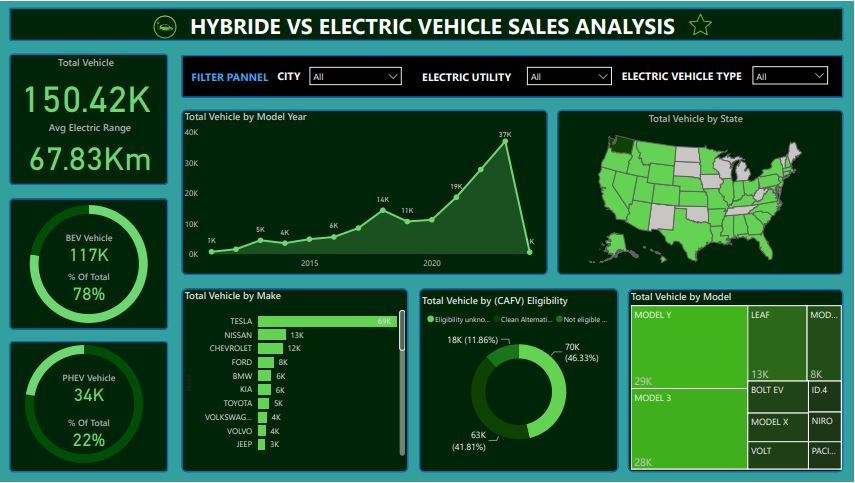

What the dashboard file says about the page in this screenshot:
{"tool":"powerbi","page":{"name":"Page 1","canvas":[1280,720],"ordinal":0},"visuals":[{"type":"shape","box":[14.3,10,1250,50],"z":0},{"type":"textbox","box":[272.1,9.9,752.6,55.3],"z":1000},{"type":"image","box":[212.6,15.6,69.4,45.4],"z":2000},{"type":"shape","box":[14.2,79.4,238.1,197],"z":3000},{"type":"card","title":"Total Vehicle","fields":{"Values":["Electric_Vehicle_Population_Data.Total Vehicle"]},"box":[24.1,80.8,209.8,97.8],"z":4000},{"type":"card","title":"Avg Electric Range","fields":{"Values":["Electric_Vehicle_Population_Data.Avg Range"]},"box":[18.4,178.6,233.9,85],"z":5000},{"type":"shape","box":[14.2,296.2,238.1,197],"z":6000},{"type":"shape","box":[14.2,510.2,238.1,197],"z":7000},{"type":"donutChart","fields":{"Category":["Electric_Vehicle_Population_Data.Electric Vehicle Type"],"Y":["Electric_Vehicle_Population_Data.Total Vehicle"]},"box":[7.1,279.2,252.3,231],"z":8000},{"type":"card","title":"BEV Vehicle","fields":{"Values":["Electric_Vehicle_Population_Data.BEV Vehicle"]},"box":[78,345.8,110.6,49.6],"z":9000},{"type":"card","title":"% Of Total","fields":{"Values":["Electric_Vehicle_Population_Data.% of BEV"]},"box":[78,405.4,110.6,49.6],"z":10000},{"type":"donutChart","fields":{"Category":["Electric_Vehicle_Population_Data.Electric Vehicle Type"],"Y":["Electric_Vehicle_Population_Data.Total Vehicle"]},"box":[0,489,252.3,231],"z":11000},{"type":"card","title":"PHEV Vehicle","fields":{"Values":["Electric_Vehicle_Population_Data.PHEV Vehicle"]},"box":[78,555.6,110.6,49.6],"z":12000},{"type":"card","title":"% Of Total","fields":{"Values":["Electric_Vehicle_Population_Data.% of PHEV"]},"box":[78,623.6,110.6,49.6],"z":13000},{"type":"shape","box":[272.1,80.8,992.1,63.8],"z":14000},{"type":"shape","box":[272.1,163,548.5,248],"z":15000},{"type":"areaChart","fields":{"Category":["Electric_Vehicle_Population_Data.Model Year"],"Y":["Electric_Vehicle_Population_Data.Total Vehicle"]},"box":[272.1,163,540,248],"z":16000},{"type":"shape","box":[834.8,163,429.4,248],"z":17000},{"type":"shapeMap","fields":{"Category":["Electric_Vehicle_Population_Data.State"],"Value":["Electric_Vehicle_Population_Data.Total Vehicle"]},"box":[834.8,165.8,416.7,242.4],"z":18000},{"type":"shape","box":[272.1,430.9,340.2,276.4],"z":19000},{"type":"barChart","fields":{"Category":["Electric_Vehicle_Population_Data.Make"],"Y":["Electric_Vehicle_Population_Data.Total Vehicle"]},"box":[272.1,430.9,340.2,256.5],"z":20000},{"type":"shape","box":[627.9,430.9,299.1,276.4],"z":21000},{"type":"donutChart","title":"Total Vehicle by (CAFV) Eligibility","fields":{"Category":["Electric_Vehicle_Population_Data.Clean Alternative Fuel Vehicle (CAFV) Eligibility"],"Y":["Electric_Vehicle_Population_Data.Total Vehicle"]},"box":[627.9,439.4,299.1,248],"z":22000},{"type":"shape","box":[941.1,432.3,323.1,275],"z":23000},{"type":"treemap","fields":{"Group":["Electric_Vehicle_Population_Data.Model"],"Values":["Electric_Vehicle_Population_Data.Total Vehicle"]},"box":[941.1,432.3,324.6,275],"z":24000},{"type":"textbox","box":[282,97.8,138.9,32.6],"z":25000},{"type":"slicer","fields":{"Values":["Electric_Vehicle_Population_Data.City"]},"box":[453.5,89.3,158.7,49.6],"z":26000},{"type":"textbox","box":[411,96.4,53.9,32.6],"z":27000},{"type":"textbox","box":[627.9,97.8,172.9,32.6],"z":28000},{"type":"slicer","fields":{"Values":["Electric_Vehicle_Population_Data.Electric Utility"]},"box":[779.5,89.3,147.4,49.6],"z":29000},{"type":"slicer","fields":{"Values":["Electric_Vehicle_Population_Data.Electric Vehicle Type"]},"box":[1118.3,87.9,133.2,49.6],"z":30000},{"type":"textbox","box":[926.9,96.4,191.3,32.6],"z":31000},{"type":"image","box":[1026.1,14.2,46.8,42.5],"z":32000}]}

Visuals, with their boxes in screenshot pixels (x1, y1, x2, y2), scaled from the page's 1280x720 canvas onto the 855x483 screenshot:
shape: (left=10, top=7, right=845, bottom=40)
textbox: (left=182, top=7, right=684, bottom=44)
image: (left=142, top=10, right=188, bottom=41)
shape: (left=9, top=53, right=169, bottom=185)
"Total Vehicle" card: (left=16, top=54, right=156, bottom=120)
"Avg Electric Range" card: (left=12, top=120, right=169, bottom=177)
shape: (left=9, top=199, right=169, bottom=331)
shape: (left=9, top=342, right=169, bottom=474)
donutChart - Electric_Vehicle_Population_Data.Electric Vehicle Type x Electric_Vehicle_Population_Data.Total Vehicle: (left=5, top=187, right=173, bottom=342)
"BEV Vehicle" card: (left=52, top=232, right=126, bottom=265)
"% Of Total" card: (left=52, top=272, right=126, bottom=305)
donutChart - Electric_Vehicle_Population_Data.Electric Vehicle Type x Electric_Vehicle_Population_Data.Total Vehicle: (left=0, top=328, right=169, bottom=482)
"PHEV Vehicle" card: (left=52, top=373, right=126, bottom=406)
"% Of Total" card: (left=52, top=418, right=126, bottom=452)
shape: (left=182, top=54, right=844, bottom=97)
shape: (left=182, top=109, right=548, bottom=276)
areaChart - Electric_Vehicle_Population_Data.Model Year x Electric_Vehicle_Population_Data.Total Vehicle: (left=182, top=109, right=542, bottom=276)
shape: (left=558, top=109, right=844, bottom=276)
shapeMap - Electric_Vehicle_Population_Data.State x Electric_Vehicle_Population_Data.Total Vehicle: (left=558, top=111, right=836, bottom=274)
shape: (left=182, top=289, right=409, bottom=474)
barChart - Electric_Vehicle_Population_Data.Make x Electric_Vehicle_Population_Data.Total Vehicle: (left=182, top=289, right=409, bottom=461)
shape: (left=419, top=289, right=619, bottom=474)
"Total Vehicle by (CAFV) Eligibility" donutChart: (left=419, top=295, right=619, bottom=461)
shape: (left=629, top=290, right=844, bottom=474)
treemap - Electric_Vehicle_Population_Data.Model x Electric_Vehicle_Population_Data.Total Vehicle: (left=629, top=290, right=845, bottom=474)
textbox: (left=188, top=66, right=281, bottom=87)
slicer - Electric_Vehicle_Population_Data.City: (left=303, top=60, right=409, bottom=93)
textbox: (left=275, top=65, right=311, bottom=87)
textbox: (left=419, top=66, right=535, bottom=87)
slicer - Electric_Vehicle_Population_Data.Electric Utility: (left=521, top=60, right=619, bottom=93)
slicer - Electric_Vehicle_Population_Data.Electric Vehicle Type: (left=747, top=59, right=836, bottom=92)
textbox: (left=619, top=65, right=747, bottom=87)
image: (left=685, top=10, right=717, bottom=38)
